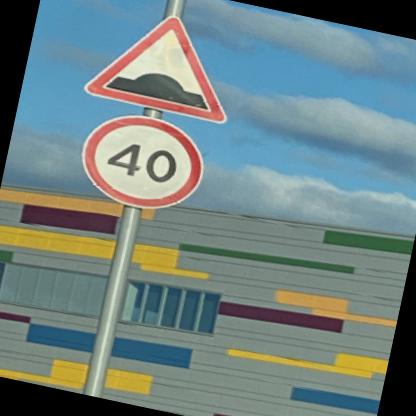speedlimit: (70, 104, 208, 218)
